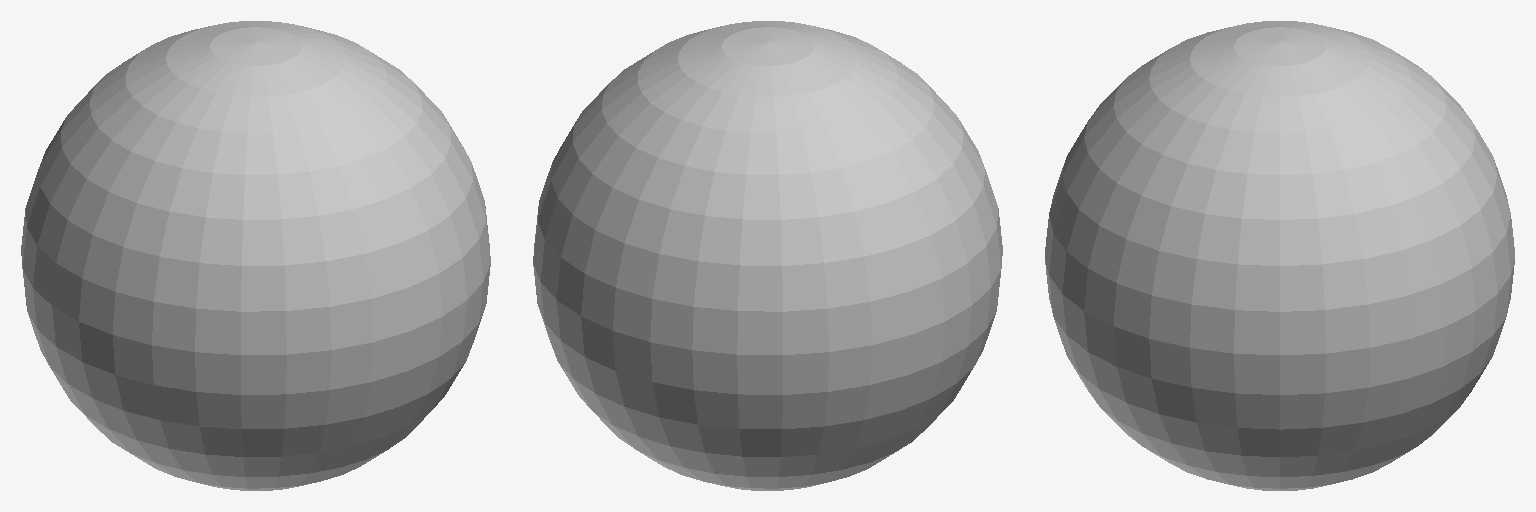
Rendered from cornell3_sphere2_09.obj.
3 renders of one model, left to right at view 1: azimuth 30°, elevation 25°; view 2: azimuth 150°, elevation 25°; view 3: azimuth 270°, elevation 25°, orthographic.
Parts seen in each view (by area): view 1: Sphere; view 2: Sphere; view 3: Sphere.
Part boxes in pixels (bbox=[...]): Sphere: bbox=[21, 21, 490, 490]; Sphere: bbox=[533, 21, 1002, 490]; Sphere: bbox=[1045, 21, 1514, 490].
Bounding box in the file's own units: 0.398 × 0.398 × 0.398.